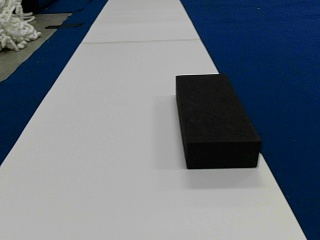block: (176, 75, 260, 167)
